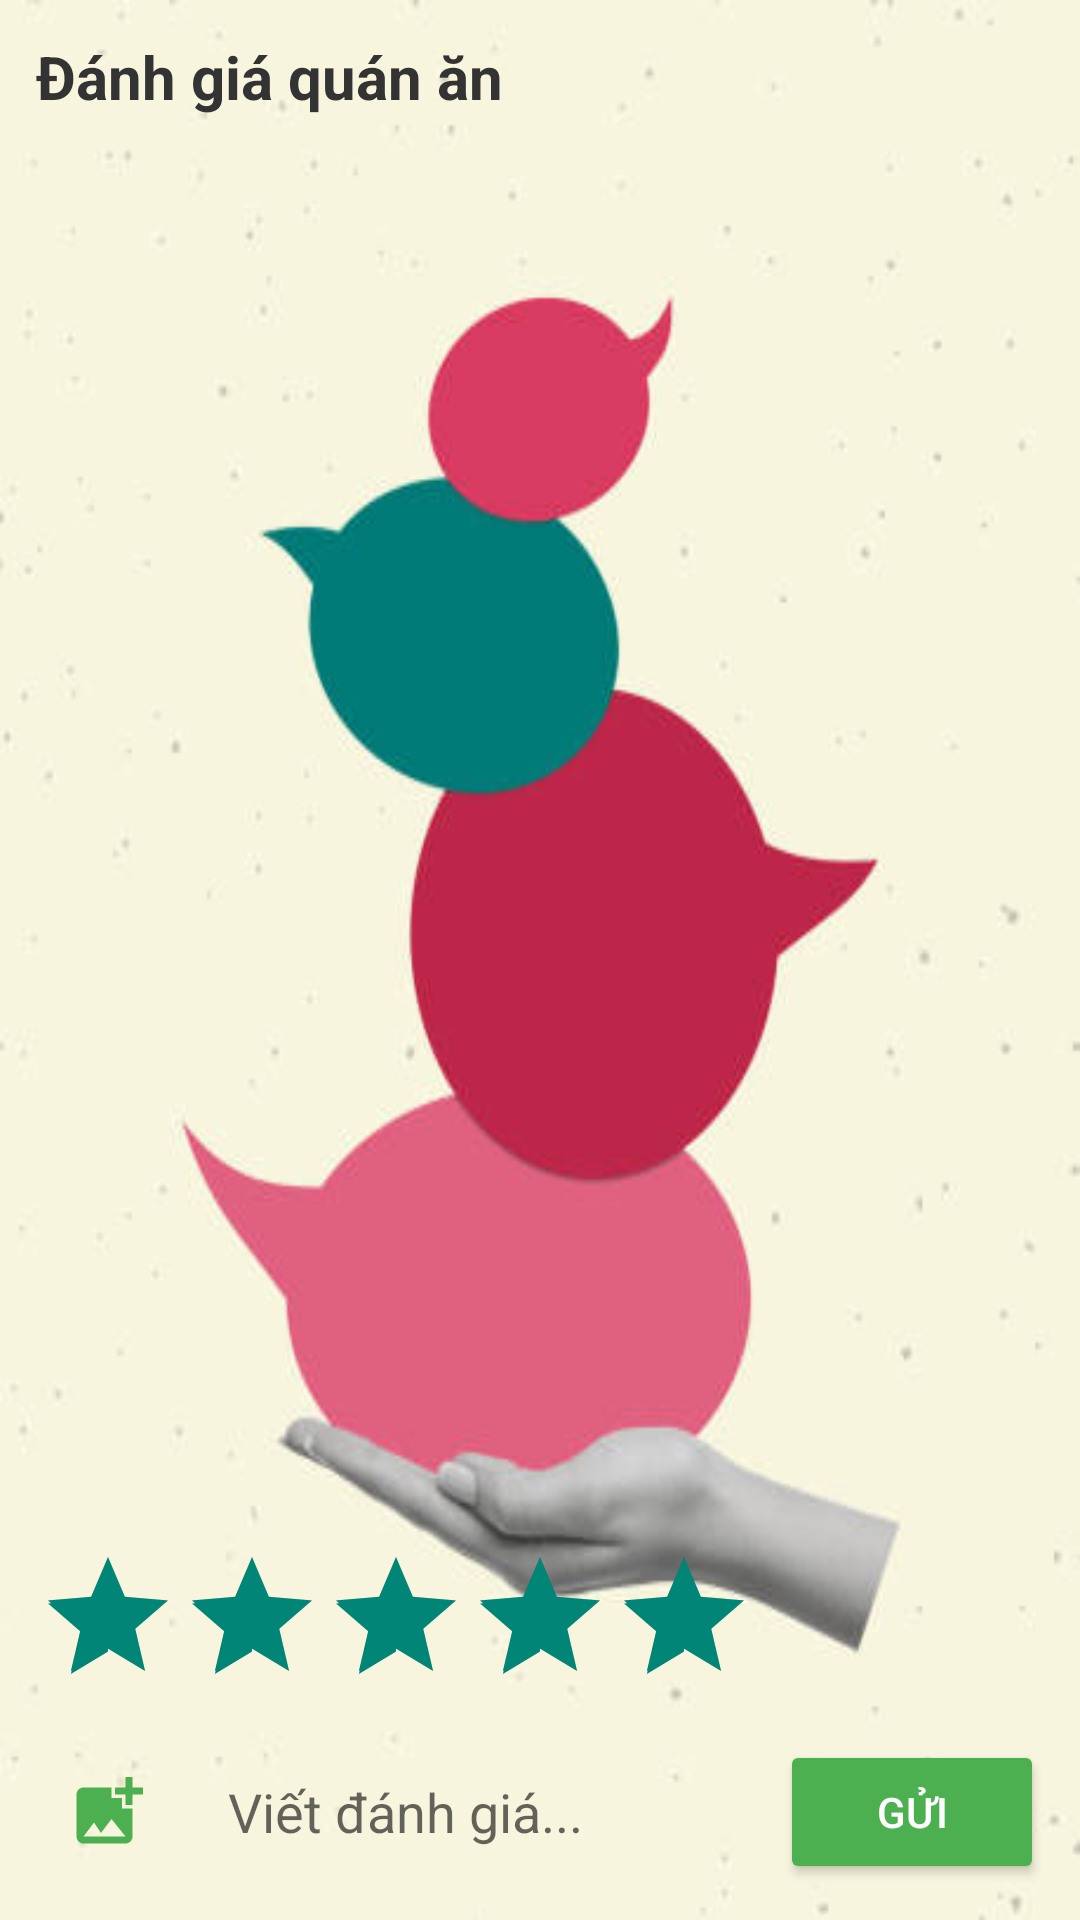

Named icons in this screenshot (1080x1920) and their bounding boxes, bbox(x1, y1, x2, y2):
Thêm ảnh: bbox(76, 1755, 143, 1844)
